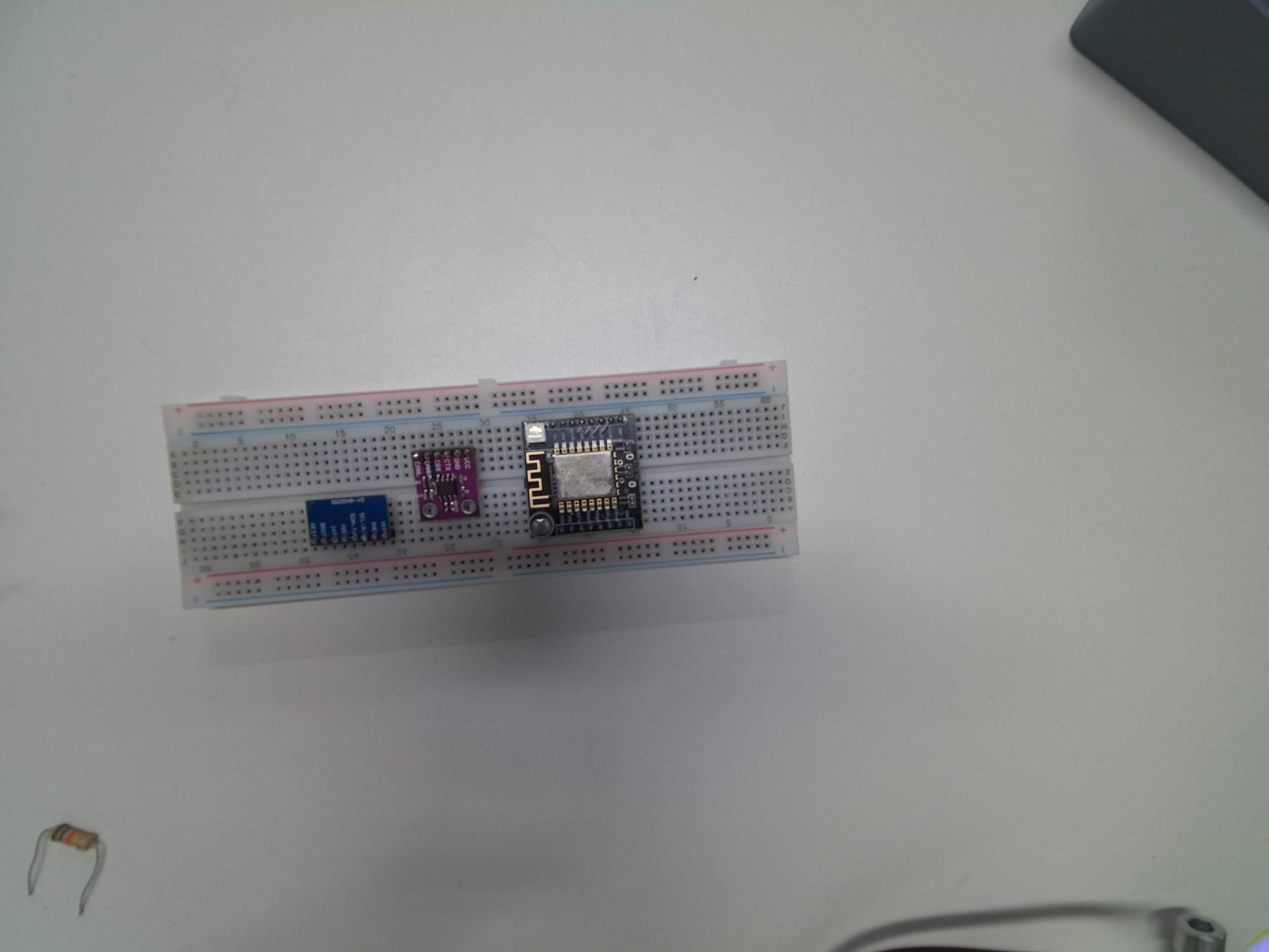base: (158, 364, 802, 611)
blue-board: (305, 492, 396, 550)
esp: (524, 418, 643, 539)
purple-board: (410, 444, 482, 523)
resistor-big: (43, 818, 105, 854)
